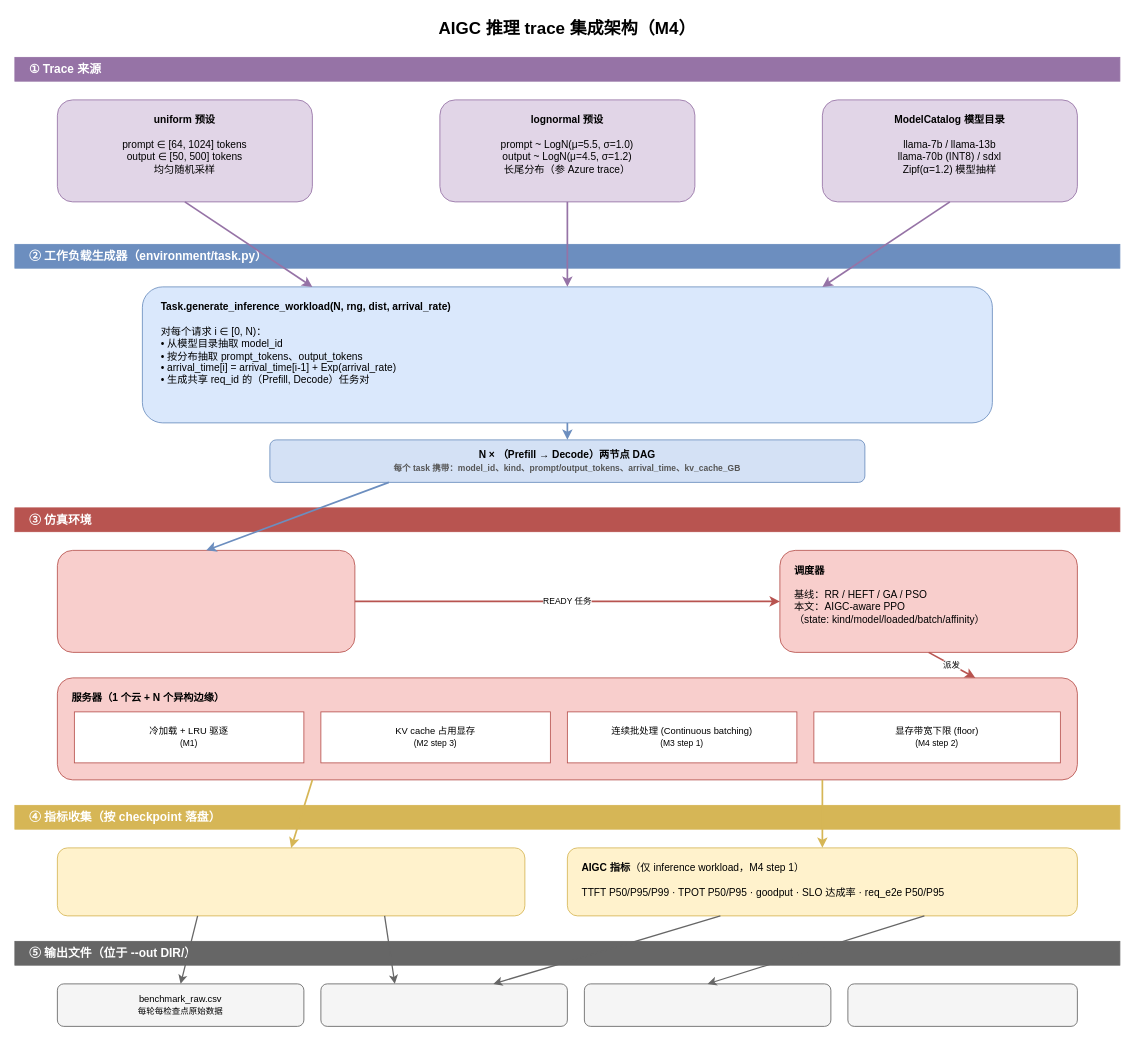
This 1135x1041 diagram has some shape labels left out. The shapes that lost their labels are listed below. From the top down, each one's centre as x and y in pixels, then its label:
At (x=206, y=601): "任务（Simulation.step） WAITING → READY： ✓ 依赖已满足 ✓ current_time ≥ arrival_time".
At (x=291, y=881): "通用指标 （所有 workload 共用） 总运行时间 · 平均端到端延迟 · 平均利用率 · 负载均衡标准差".
At (x=443, y=1004): "benchmark_summary.csv 均值 / std / 95% CI".
At (x=707, y=1004): "statistical_tests.csv Mann-Whitney U 检验".
At (x=962, y=1004): "run_manifest.json 配置 + git commit".
